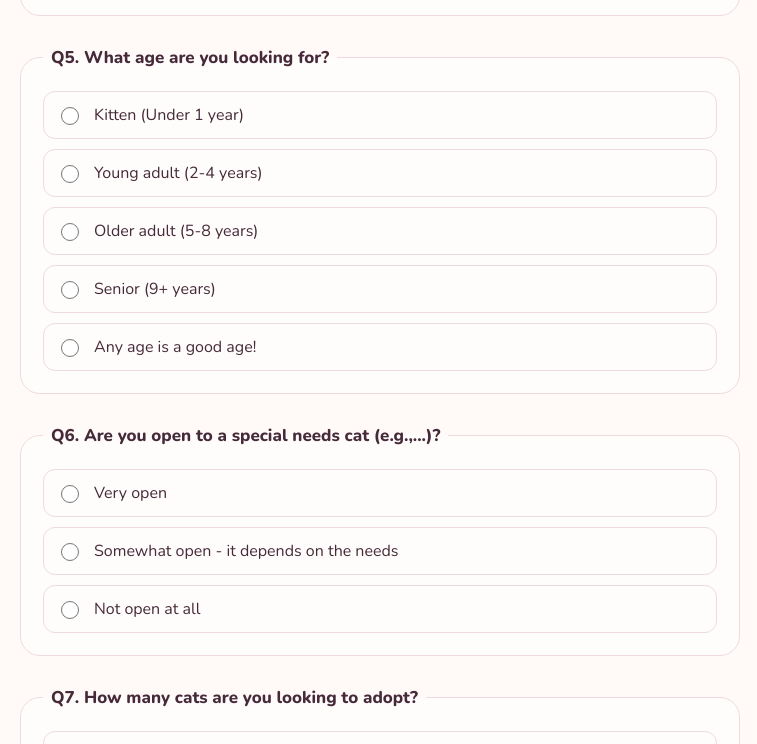
Scenario: public adopter pages and private bookmarks › passes quiz answers to matches and back while storage is blocked
Earlier steps of the test are not shown.
(page scrolled)
Click the radio button labelled "Any age is a good age!": (70, 348) x1=61 y1=339 x2=79 y2=357
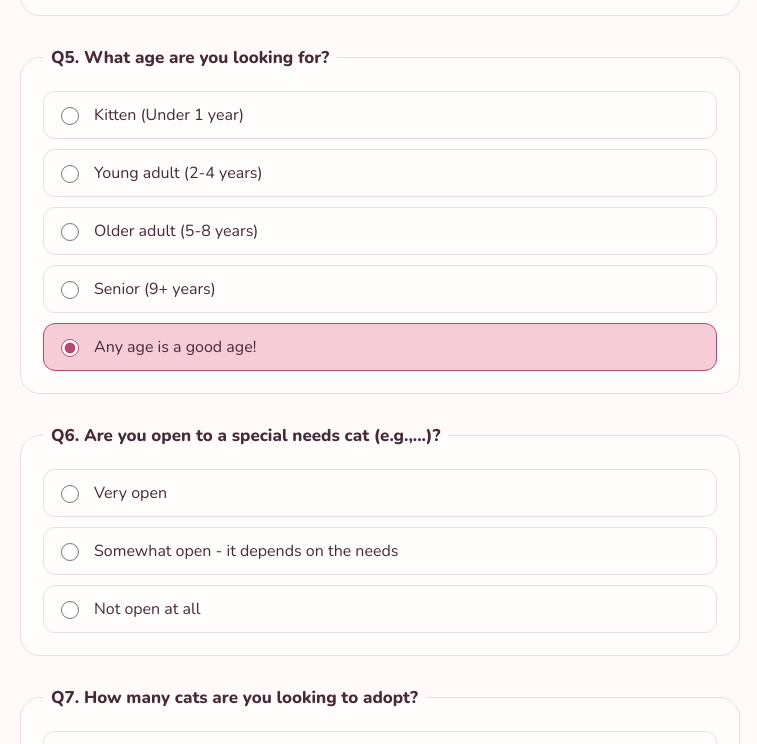
Click the radio button labelled "Very open": (70, 494) x1=61 y1=485 x2=79 y2=503
(page scrolled)
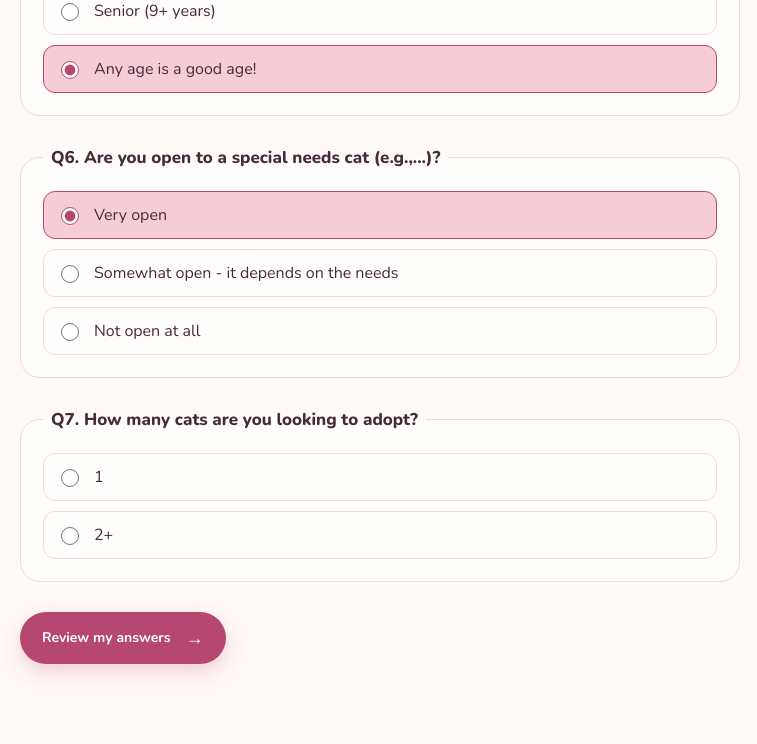
Click the radio button labelled "1": (70, 478) x1=61 y1=469 x2=79 y2=487
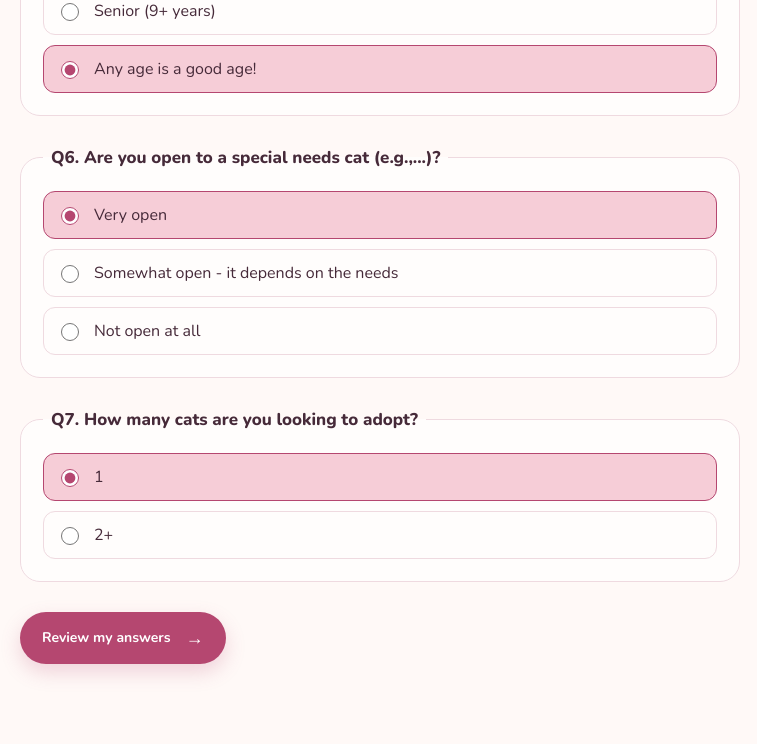
Click the button "Review my answers →": (123, 638) x1=20 y1=612 x2=226 y2=664
(page scrolled)
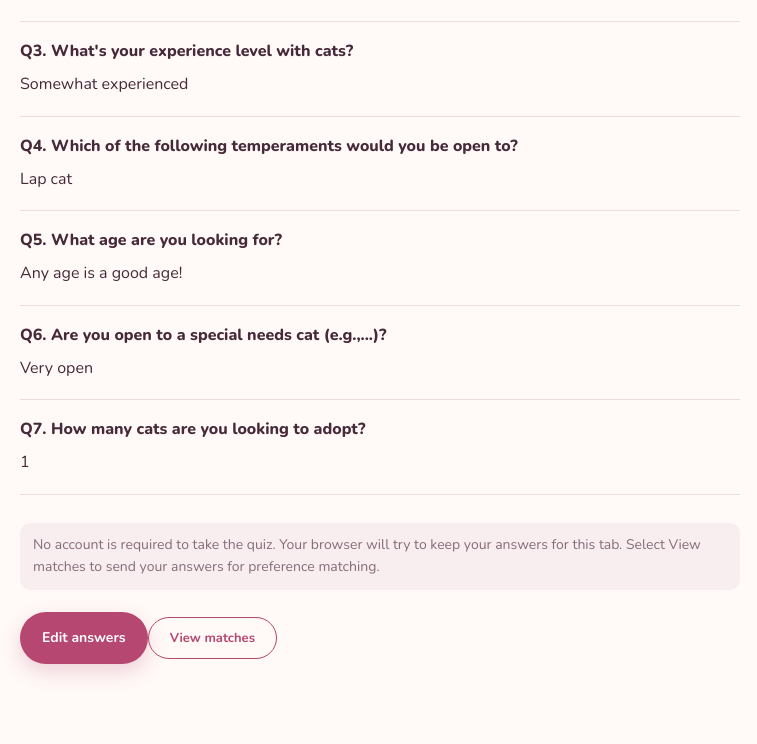
Click the button "View matches": (212, 638) x1=148 y1=617 x2=277 y2=659
(page scrolled)
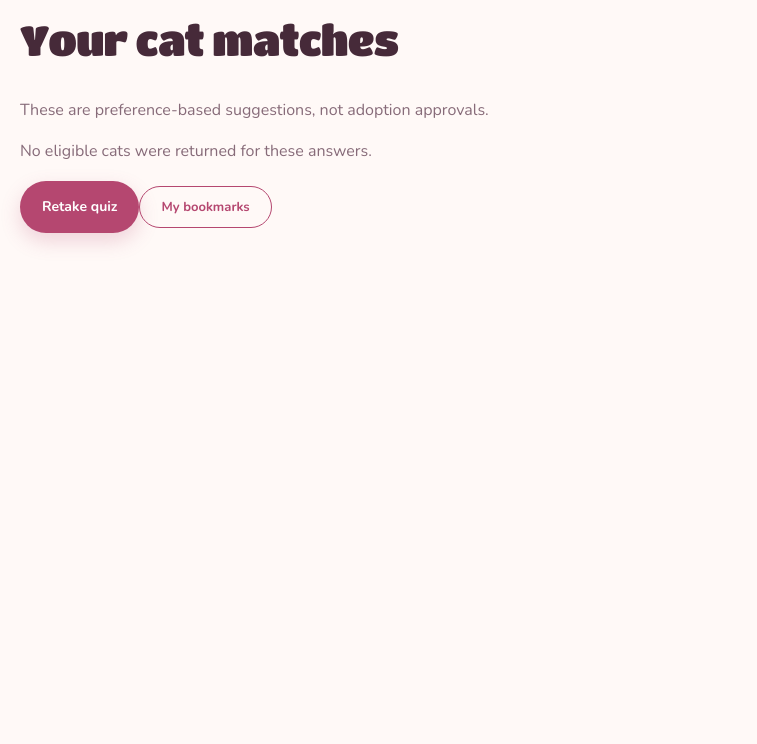
Now the text "No eligible cats were returned for these answers." is shown, box x1=20 y1=140 x2=372 y2=162
Click the button "Retake quiz": (80, 207) x1=20 y1=181 x2=140 y2=233
(page scrolled)
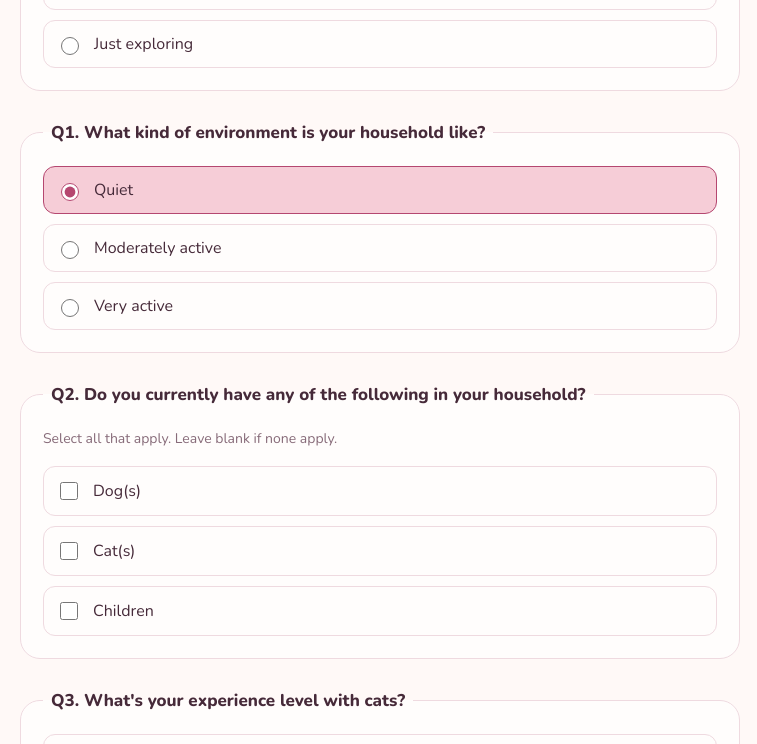
Now the radio button labelled "Quiet" is checked, box x1=61 y1=183 x2=79 y2=201
